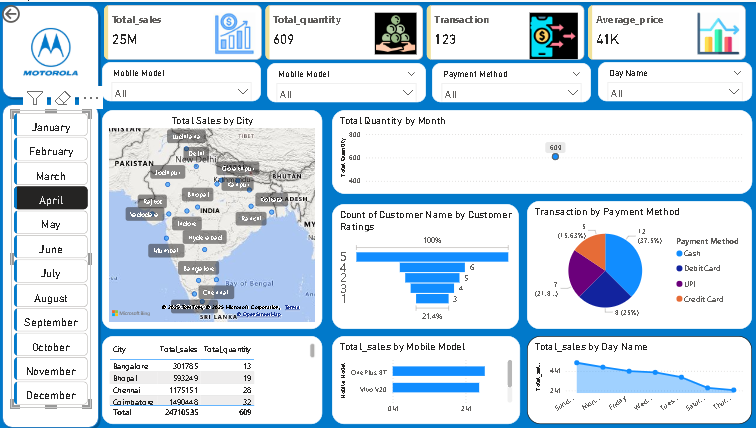

The dashboard page shown, as its layout file describes it:
{"tool":"powerbi","page":{"name":"Page 1","canvas":[1280,720],"ordinal":0},"visuals":[{"type":"shape","box":[0,0,173,166.3],"z":0},{"type":"image","box":[20.2,15.1,134.4,137.7],"z":1000},{"type":"shape","box":[0,166.3,173,554.3],"z":2000},{"type":"advancedSlicerVisual","fields":{"Values":["Sheet1.Date.Variation.Date Hierarchy.Month"]},"box":[20.2,181.4,134.4,500.6],"z":3000},{"type":"cardVisual","fields":{"Data":["Sheet1.Total_sales","Sheet1.Total_quantity","Sheet1.Transaction","Sheet1.Average_price"]},"box":[171.3,0,1091.9,102.5],"z":4000},{"type":"map","fields":{"Category":["Sheet1.City"]},"box":[173,181.4,369.6,367.9],"z":5000},{"type":"lineChart","fields":{"Category":["Sheet1.Date.Variation.Date Hierarchy.Month","Sheet1.Date.Variation.Date Hierarchy.Day"],"Y":["Sheet1.Total_quantity"]},"box":[559.4,181.4,705.5,141.1],"z":6000},{"type":"barChart","fields":{"Category":["Sheet1.Mobile Model"],"Y":["Sheet1.Total_sales"]},"box":[559.4,561,315.8,147.8],"z":7000},{"type":"pieChart","fields":{"Y":["Sheet1.Transaction"],"Category":["Sheet1.Payment Method"]},"box":[886.9,334.3,378,215],"z":8000},{"type":"funnel","fields":{"Category":["Sheet1.Customer Ratings"],"Y":["CountNonNull(Sheet1.Customer Name)"]},"box":[559.4,339.3,314.1,210],"z":9000},{"type":"areaChart","fields":{"Category":["Sheet1.Day Name"],"Y":["Sheet1.Total_sales"]},"box":[886.9,561,378,147.8],"z":10000},{"type":"tableEx","fields":{"Values":["Sheet1.City","Sheet1.Total_sales","Sheet1.Total_quantity"]},"box":[173,561,369.6,147.8],"z":11000},{"type":"actionButton","box":[0,0,100,40],"z":12000},{"type":"slicer","fields":{"Values":["Sheet1.Mobile Model"]},"box":[173,100.8,267.1,65.5],"z":13000},{"type":"slicer","fields":{"Values":["Sheet1.Day Name"]},"box":[1006.2,100.8,258.7,65.5],"z":14000},{"type":"slicer","fields":{"Values":["Sheet1.Mobile Model"]},"box":[450.2,102.5,267.1,65.5],"z":15000},{"type":"slicer","fields":{"Values":["Sheet1.Payment Method"]},"box":[727.3,102.5,267.1,65.5],"z":16000}]}

Visuals, with their boxes in screenshot pixels (x1, y1, x2, y2), scaled from the page's 1280x720 canvas onto the 756x428 screenshot:
shape: Rect(0, 0, 102, 99)
image: Rect(12, 9, 91, 91)
shape: Rect(0, 99, 102, 427)
advancedSlicerVisual - Sheet1.Date.Variation.Date Hierarchy.Month: Rect(12, 108, 91, 405)
cardVisual - Sheet1.Total_sales x Sheet1.Total_quantity: Rect(101, 0, 746, 61)
map - Sheet1.City: Rect(102, 108, 320, 327)
lineChart - Sheet1.Date.Variation.Date Hierarchy.Month x Sheet1.Date.Variation.Date Hierarchy.Day: Rect(330, 108, 747, 192)
barChart - Sheet1.Mobile Model x Sheet1.Total_sales: Rect(330, 333, 517, 421)
pieChart - Sheet1.Transaction x Sheet1.Payment Method: Rect(524, 199, 747, 327)
funnel - Sheet1.Customer Ratings x CountNonNull(Sheet1.Customer Name): Rect(330, 202, 516, 327)
areaChart - Sheet1.Day Name x Sheet1.Total_sales: Rect(524, 333, 747, 421)
tableEx - Sheet1.City x Sheet1.Total_sales: Rect(102, 333, 320, 421)
actionButton: Rect(0, 0, 59, 24)
slicer - Sheet1.Mobile Model: Rect(102, 60, 260, 99)
slicer - Sheet1.Day Name: Rect(594, 60, 747, 99)
slicer - Sheet1.Mobile Model: Rect(266, 61, 424, 100)
slicer - Sheet1.Payment Method: Rect(430, 61, 587, 100)
